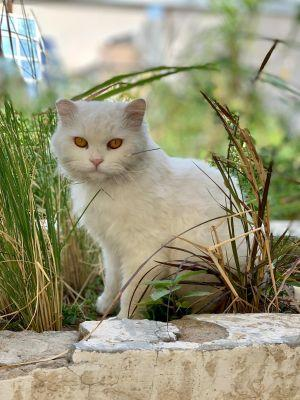persian: (45, 89, 153, 197)
